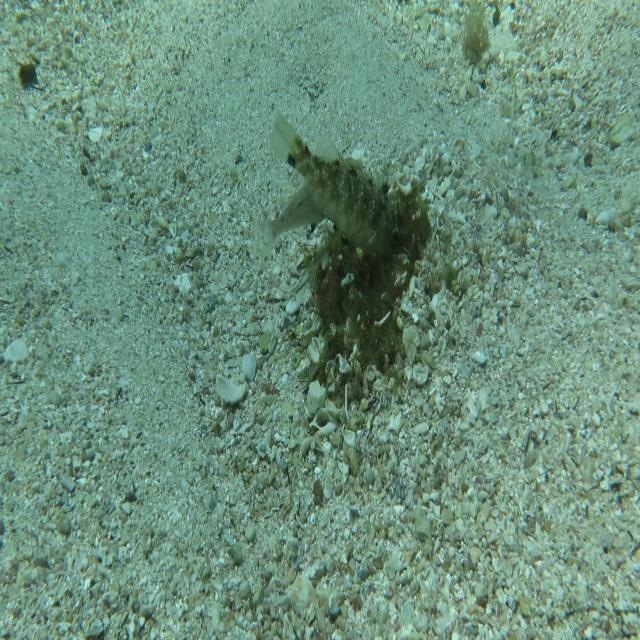NIP_CORE: (268, 110, 406, 262)
core_nest: (379, 219, 420, 263)
female: (252, 156, 364, 266)
nest: (298, 161, 452, 417)
